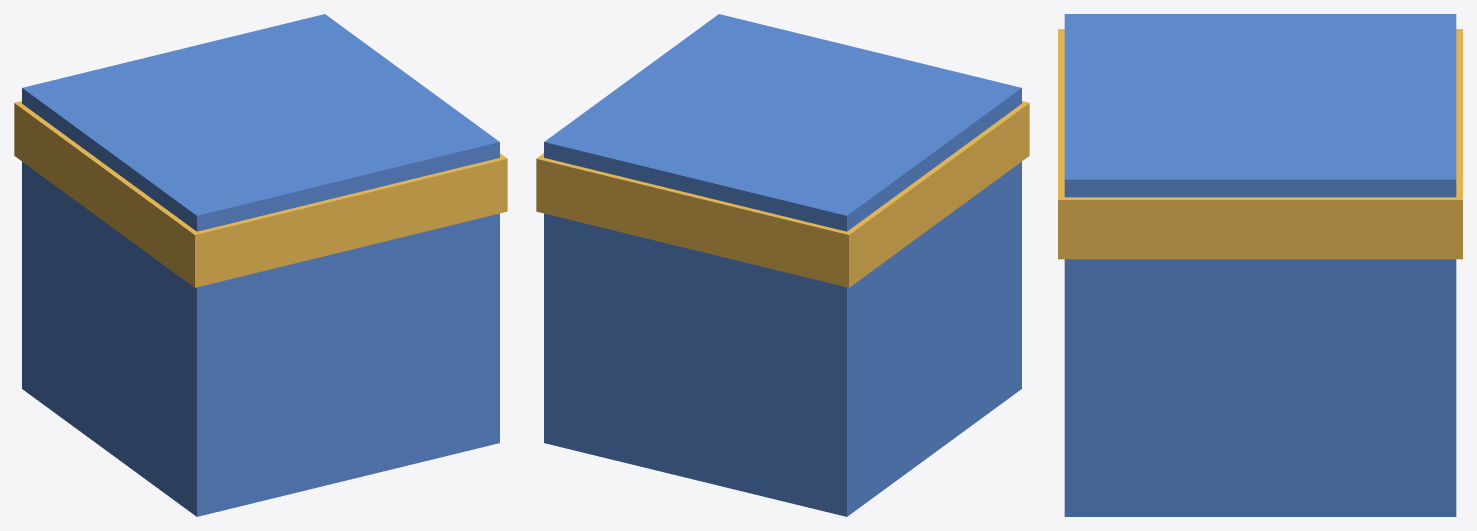
File: esquiador_canela.glb
3 views of the same model, side by side, from view 1: azimuth 30°, elevation 25°; view 2: azimuth 150°, elevation 25°; view 3: azimuth 270°, elevation 25° (orthographic). The views are drawn at different scales.
Parts seen in each view (by area): view 1: esquiador_canela; view 2: esquiador_canela; view 3: esquiador_canela.
Part boxes in pixels (x1,y1,x2,y2): esquiador_canela: (14, 14, 507, 516); esquiador_canela: (536, 14, 1029, 516); esquiador_canela: (1058, 14, 1462, 516).
Bounding box in the file's own units: 0.31 × 0.285 × 0.31.
